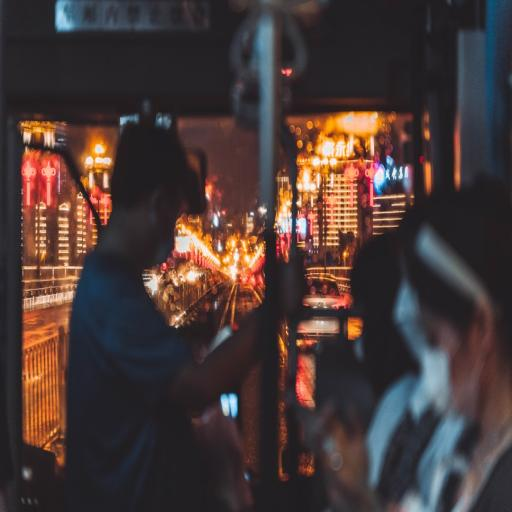face: (422, 309, 484, 418), (150, 195, 184, 264)
